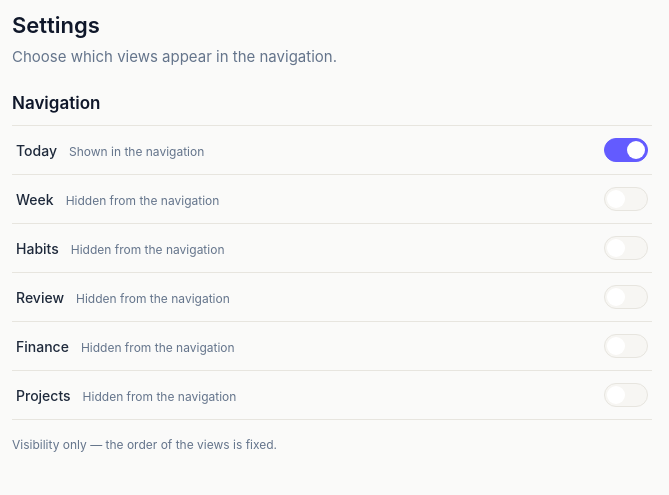
Scenario: SettingsView — the guardrails › clears the refusal on the next permitted toggle
Click the switch named "Show Today in the navigation".
click(626, 150)  # box [604, 138, 648, 162]
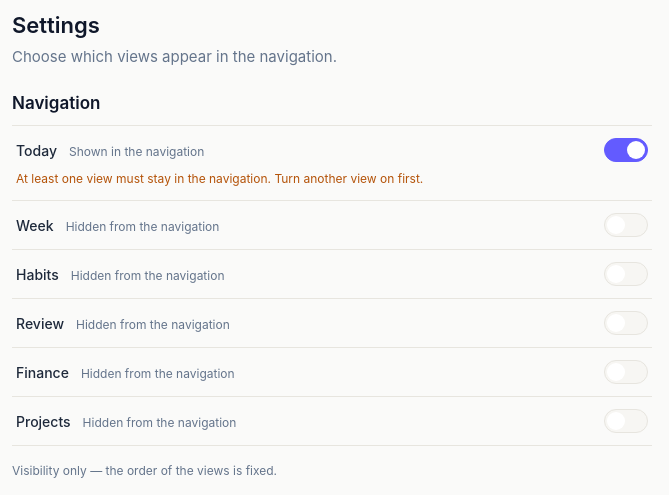
Expected: the text "At least one view must stay in the navigation. Turn another view on first." is shown, [16, 171, 423, 186]
Click the switch named "Show Week in the navigation".
click(626, 225)  # box [604, 213, 648, 237]
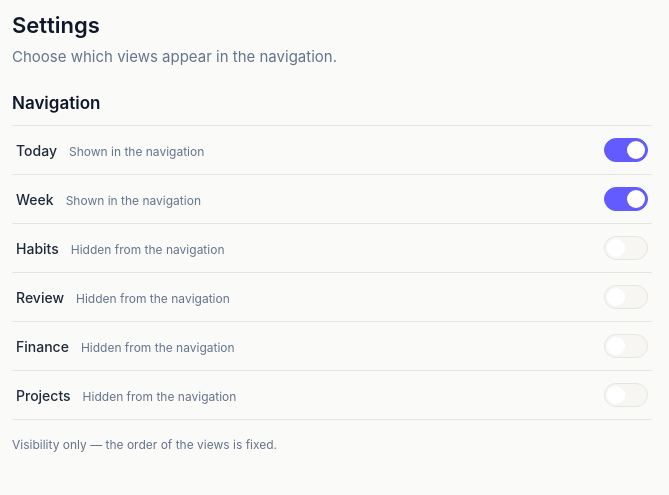
Expected: the text "At least one view must stay" is gone
